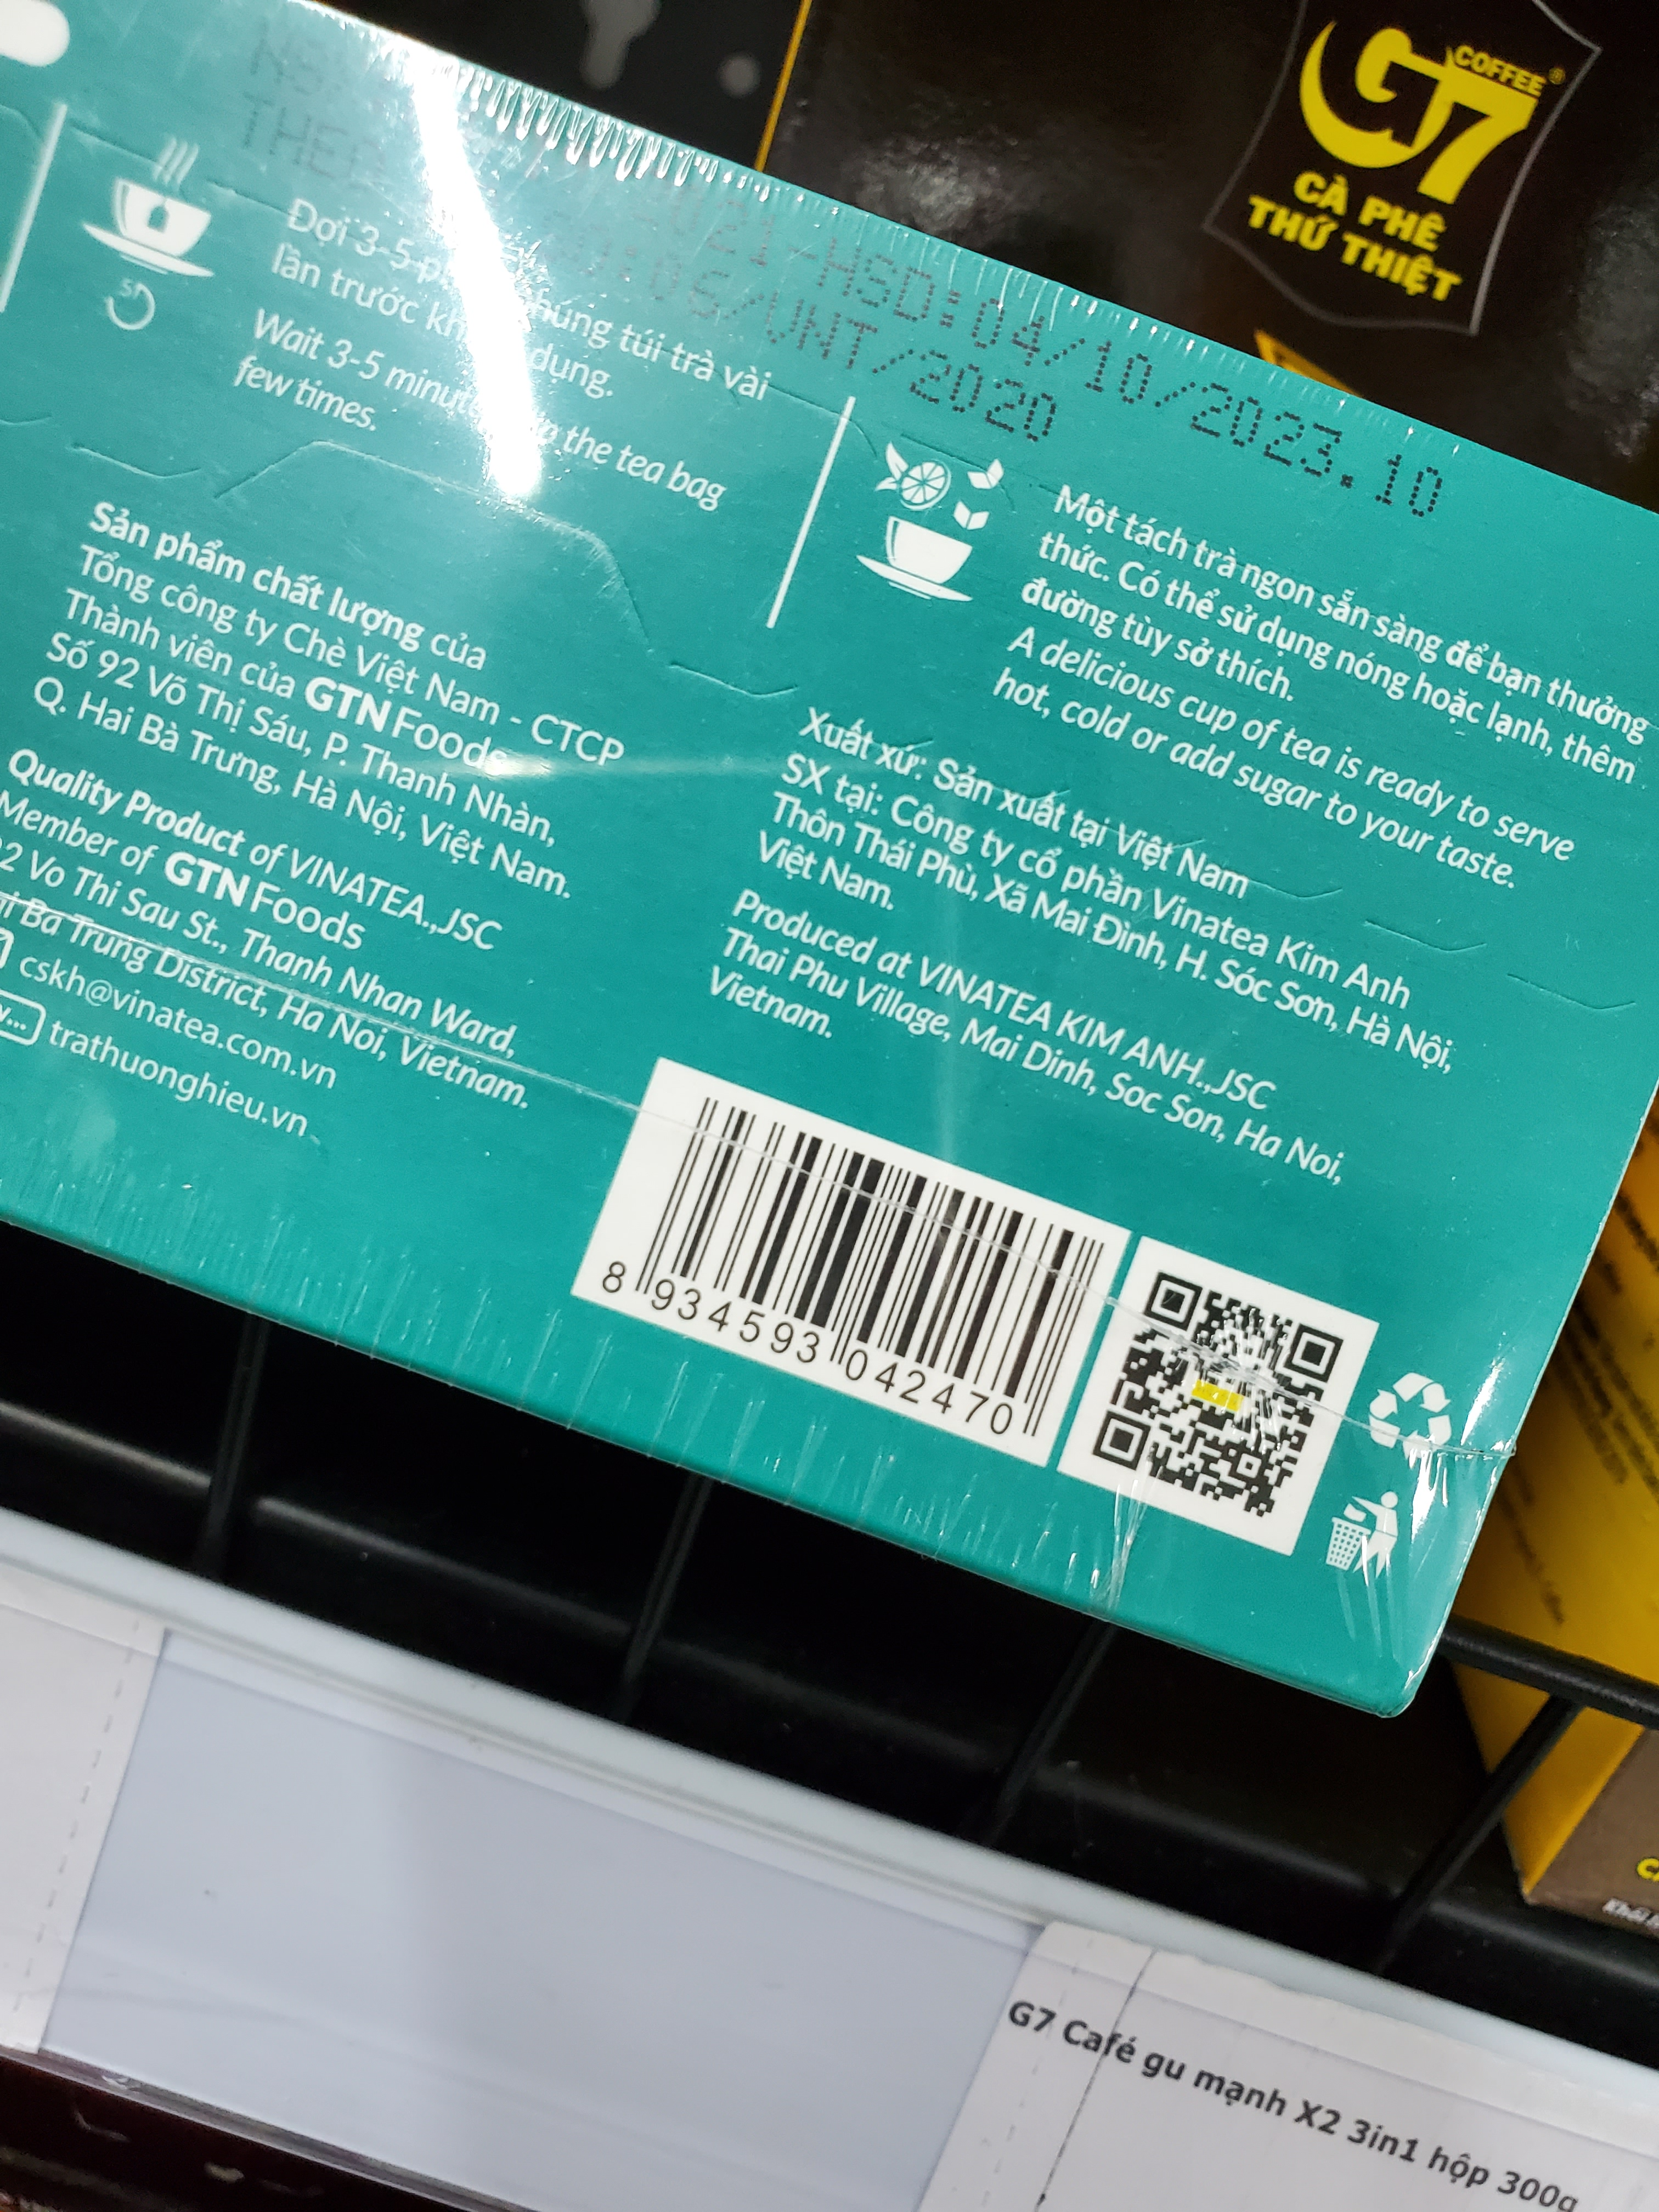barcode: (568, 1071, 1114, 1503)
qr code: (1077, 1211, 1358, 1571)
